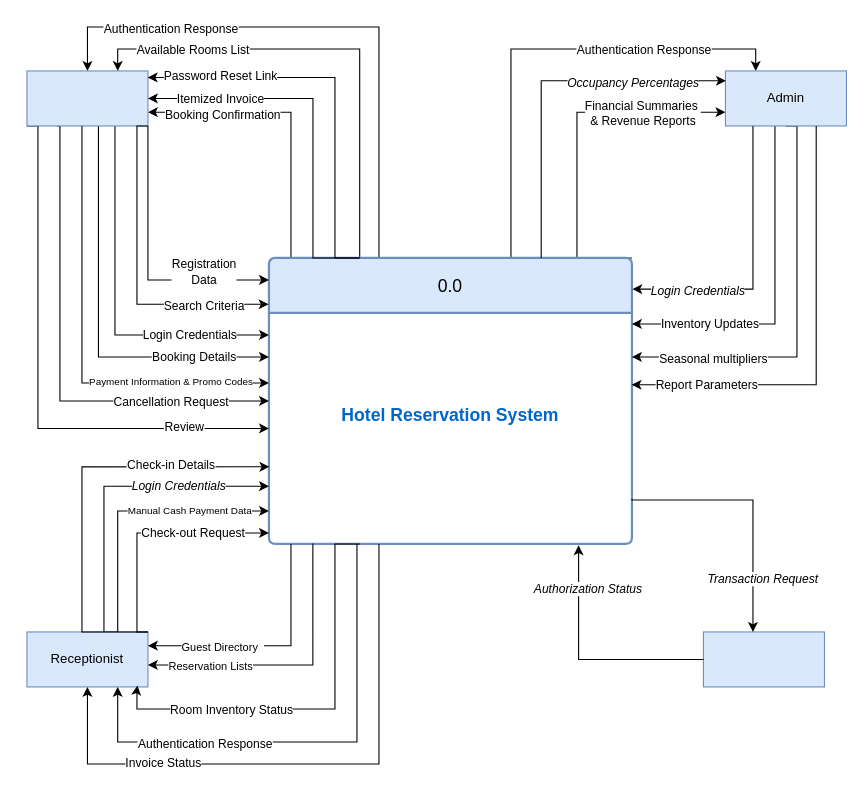
Image size: 866x792. Some labels were removed from this diagram. The centre of each missing label's shape, as x and y in pixels:
"Guest" goes at pixel 87 98.
"Payment Gateway" goes at pixel 763 659.
